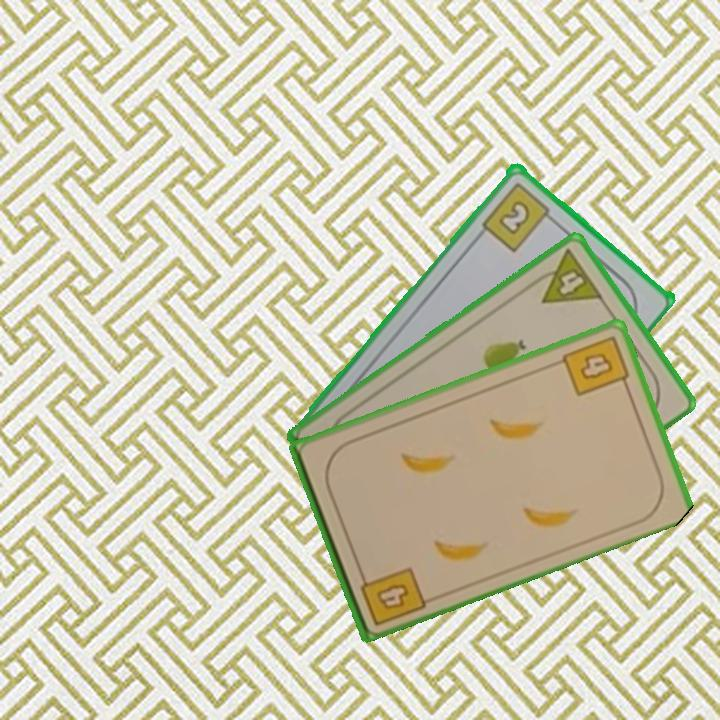2b: (478, 178, 559, 254)
4b: (559, 331, 633, 399), (355, 563, 428, 629)
4p: (526, 245, 606, 307)
